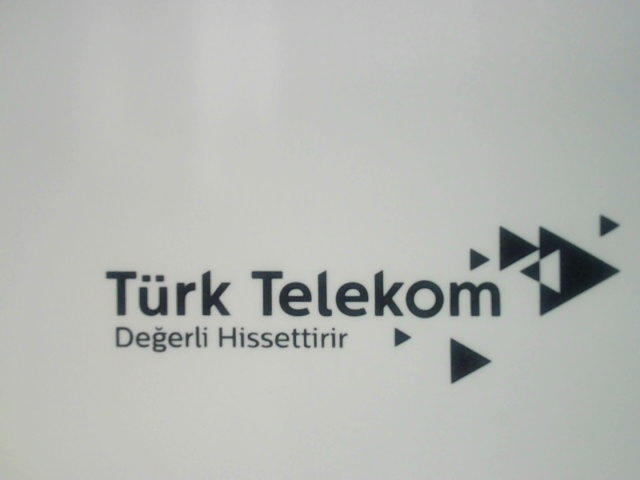AQ_TURKTelekom: (86, 199, 632, 388)
